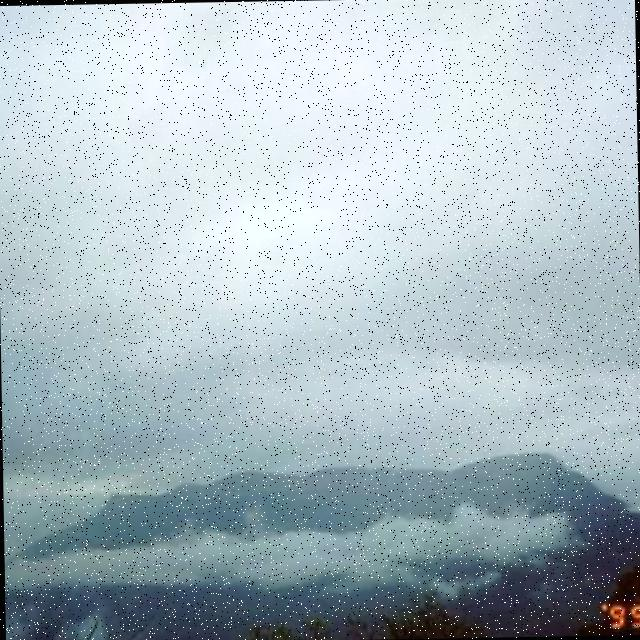St: (1, 42, 640, 347)
